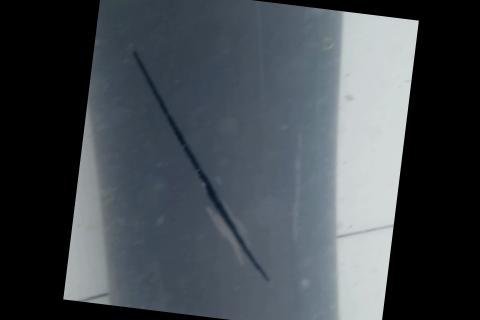keretakan: (103, 44, 298, 281)
